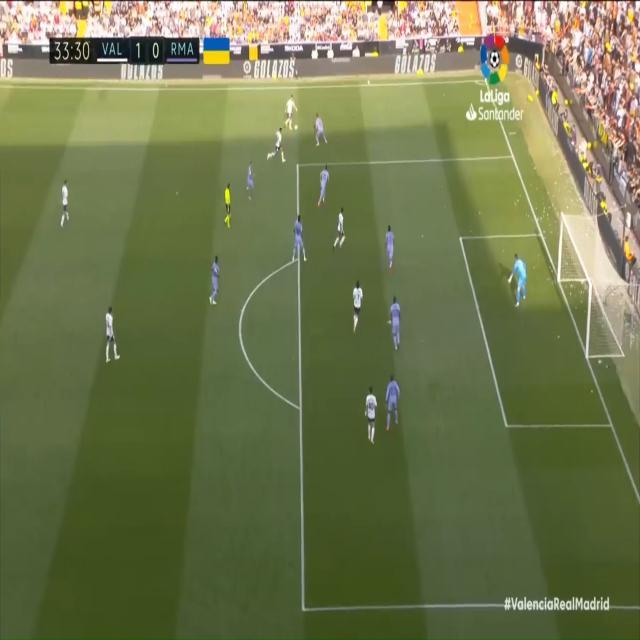ball: (294, 122, 300, 135)
goalkeeper: (497, 249, 531, 312)
player: (97, 300, 124, 373), (383, 293, 411, 353), (361, 383, 385, 444), (312, 160, 335, 215), (210, 253, 230, 316), (267, 124, 291, 176), (290, 206, 308, 275), (344, 278, 367, 332), (382, 371, 402, 433), (58, 171, 78, 232), (331, 206, 349, 256), (385, 225, 403, 274), (279, 87, 295, 137), (312, 109, 329, 153), (244, 163, 258, 207)
referee: (217, 182, 237, 239)
